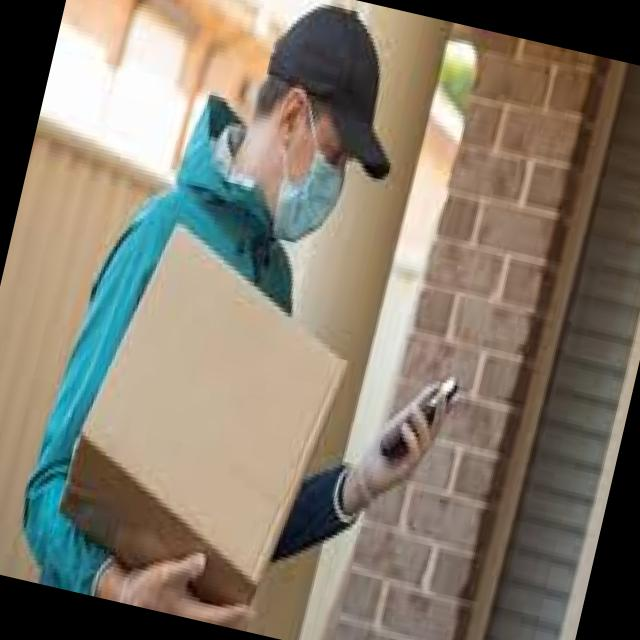box: (58, 224, 349, 622)
